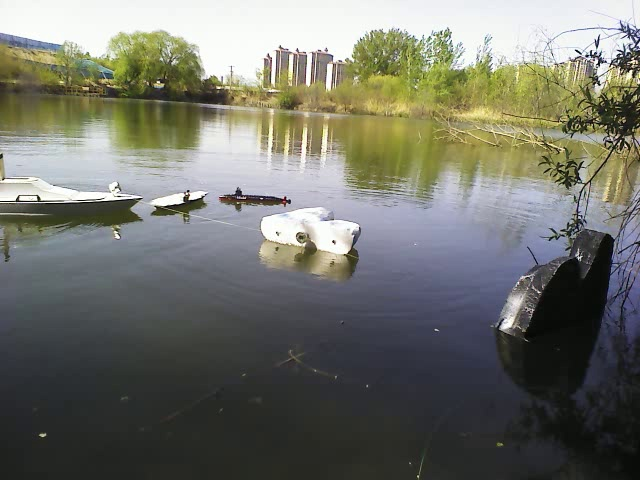aircraft_carrier: (151, 187, 208, 209)
boat: (1, 170, 141, 218)
iceberg: (262, 207, 363, 258)
rock: (494, 221, 615, 345)
submarine: (219, 182, 296, 209)
